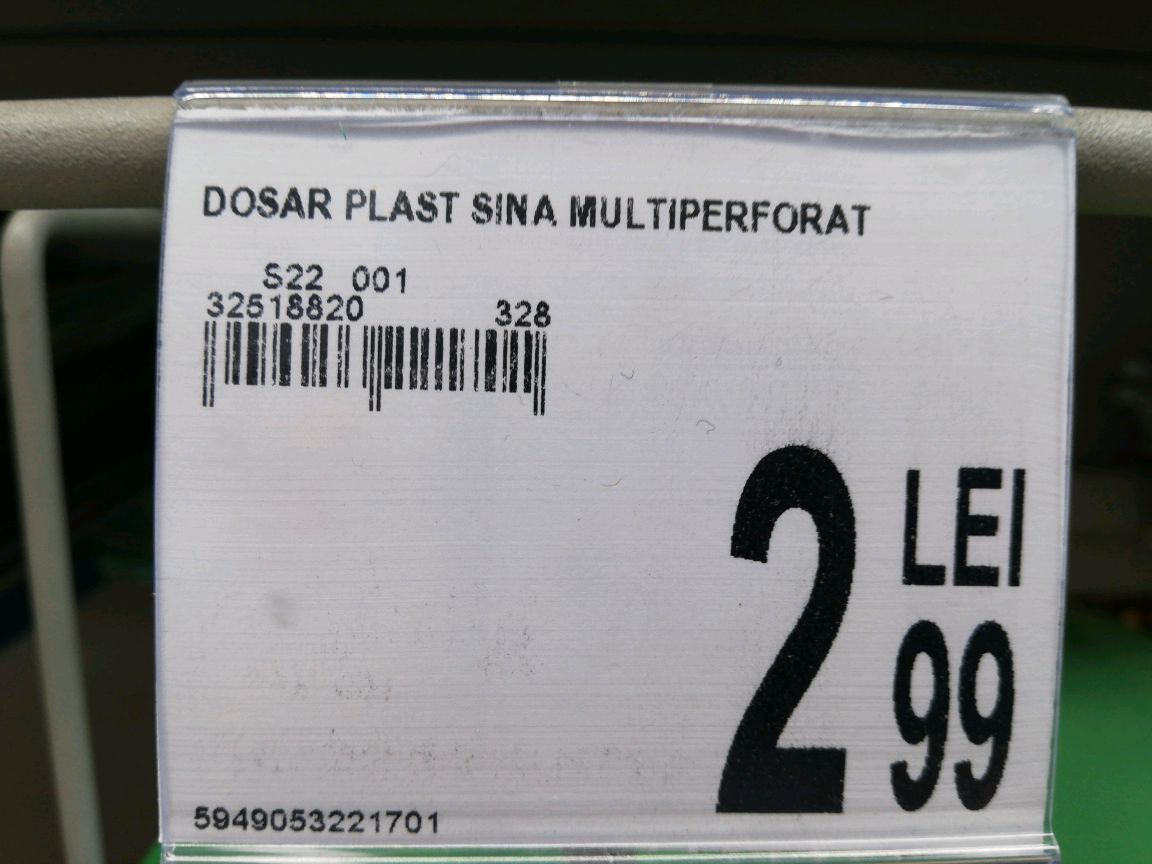price_bani: (880, 610, 1025, 824)
price_lei: (698, 438, 874, 826)
price_tag: (149, 105, 1068, 860)
product_id: (177, 794, 447, 843)
product_name: (190, 171, 899, 244)
